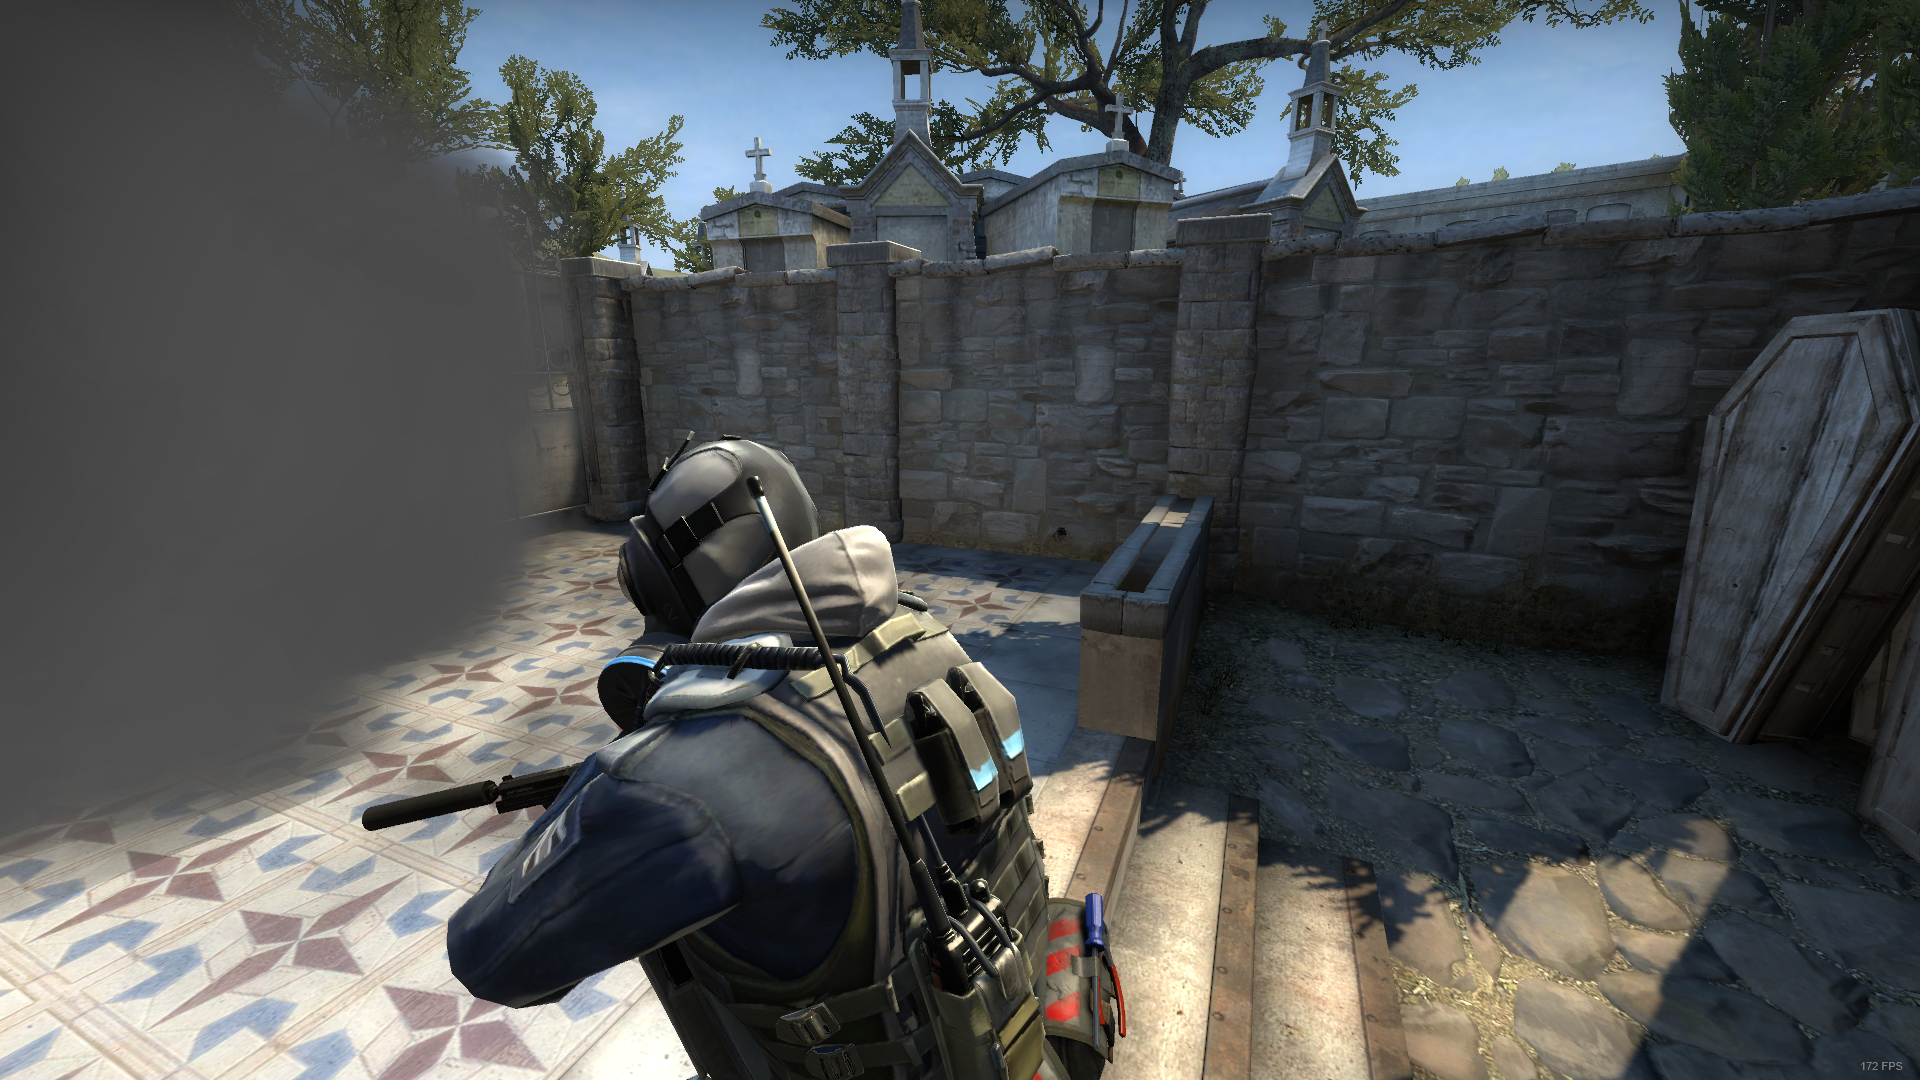ct: (349, 429, 1127, 1080)
